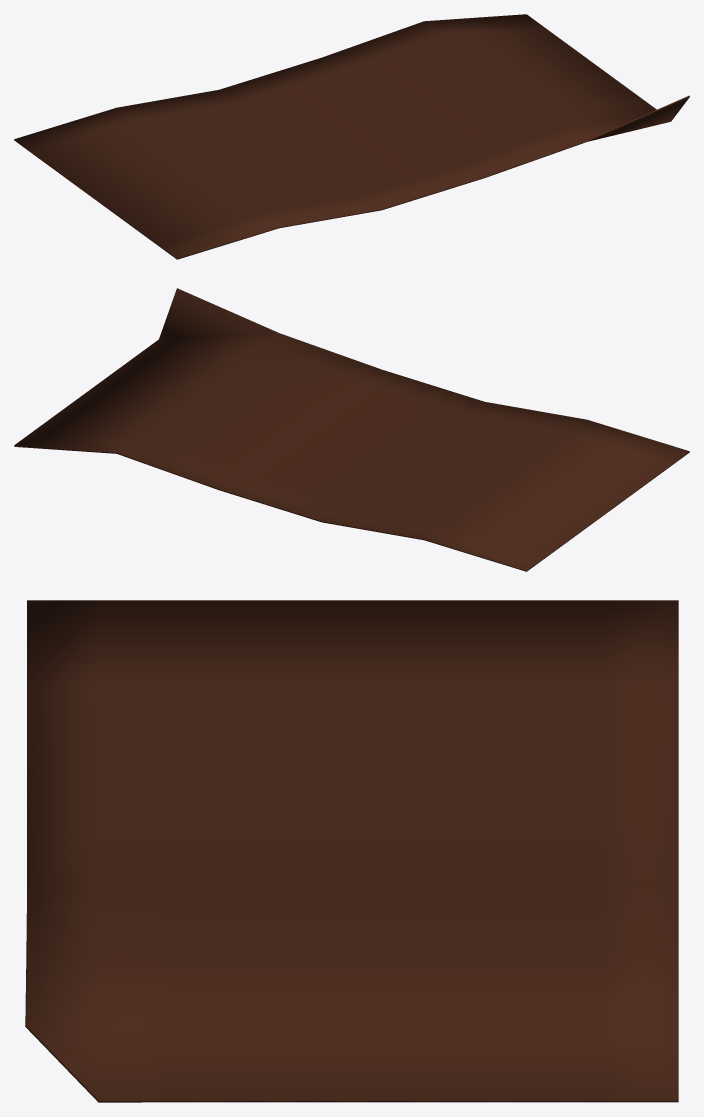
The model's file is Scrap1.glb.
3 renders of one model, top to bottom at view 1: azimuth 30°, elevation 25°; view 2: azimuth 150°, elevation 25°; view 3: azimuth 270°, elevation 25°, orthographic. The views are drawn at different scales.
Parts seen in each view (by area): view 1: Scrap 1_001; view 2: Scrap 1_001; view 3: Scrap 1_001.
Boxes of the visible parts, bbox=[...] form: Scrap 1_001: bbox=[14, 14, 689, 259]; Scrap 1_001: bbox=[14, 288, 689, 571]; Scrap 1_001: bbox=[25, 600, 678, 1102].
Size of the model in its own units: 0.5478 by 0.0407 by 0.3022.
